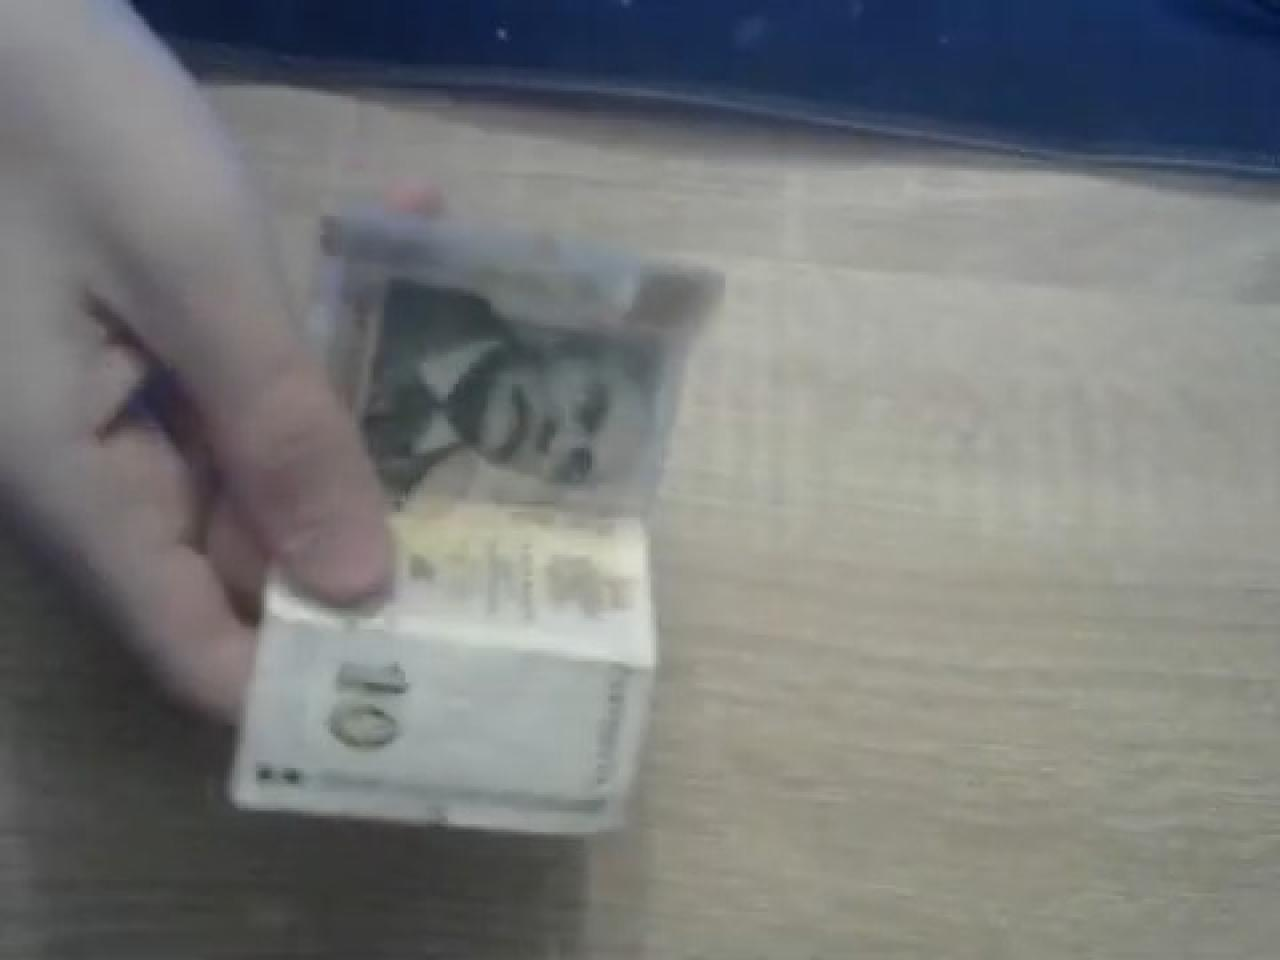10leva: (227, 213, 723, 843)
